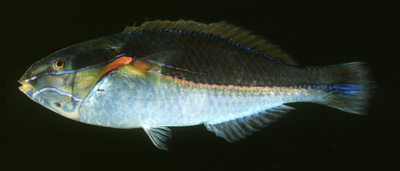fish: (17, 18, 372, 150)
